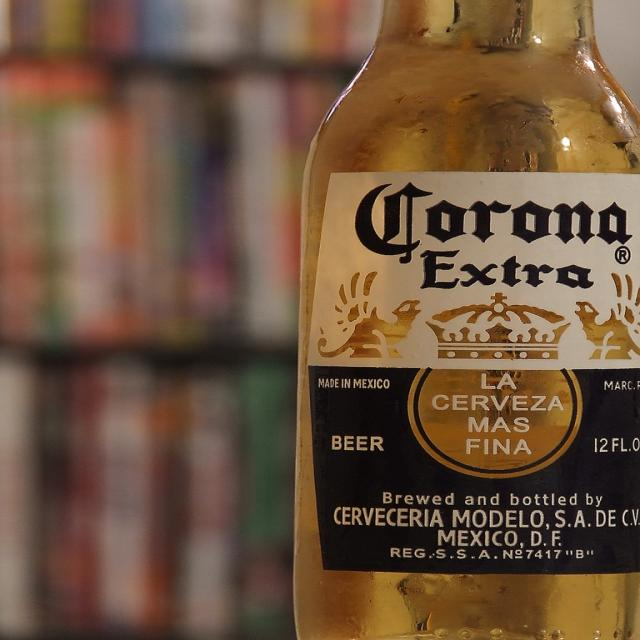corona: (308, 172, 640, 575)
